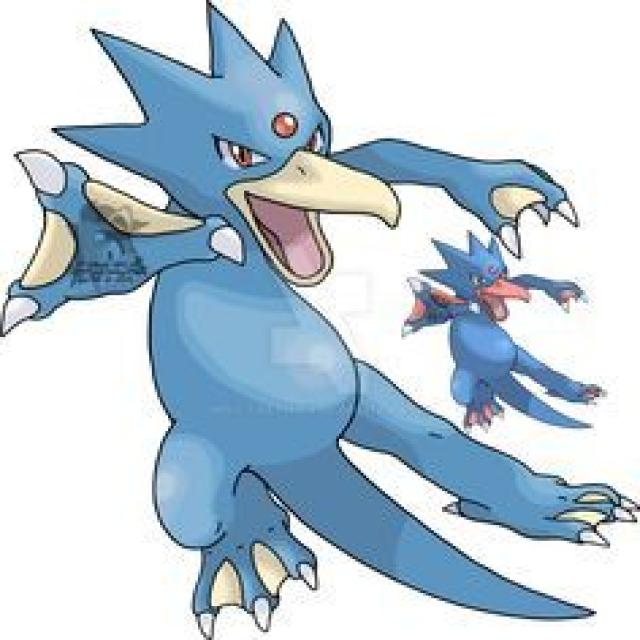Golduck: (0, 22, 409, 592), (400, 221, 604, 442)
